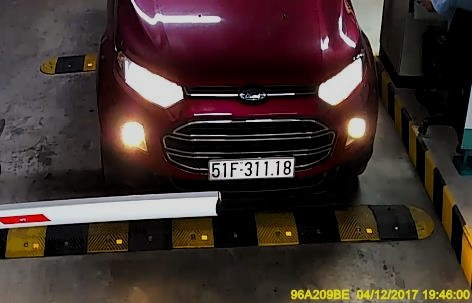plate: (206, 154, 296, 180)
